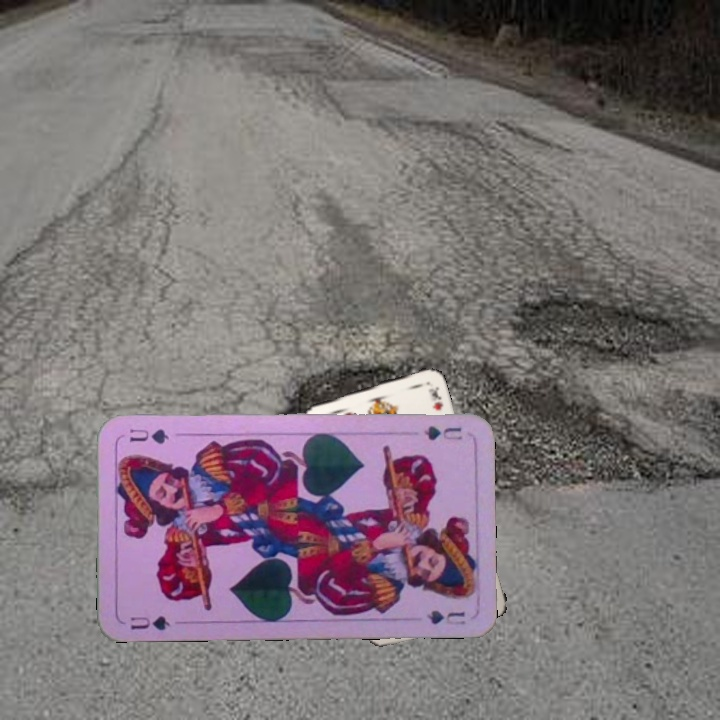GU: (127, 612, 173, 633), (419, 422, 464, 443)
